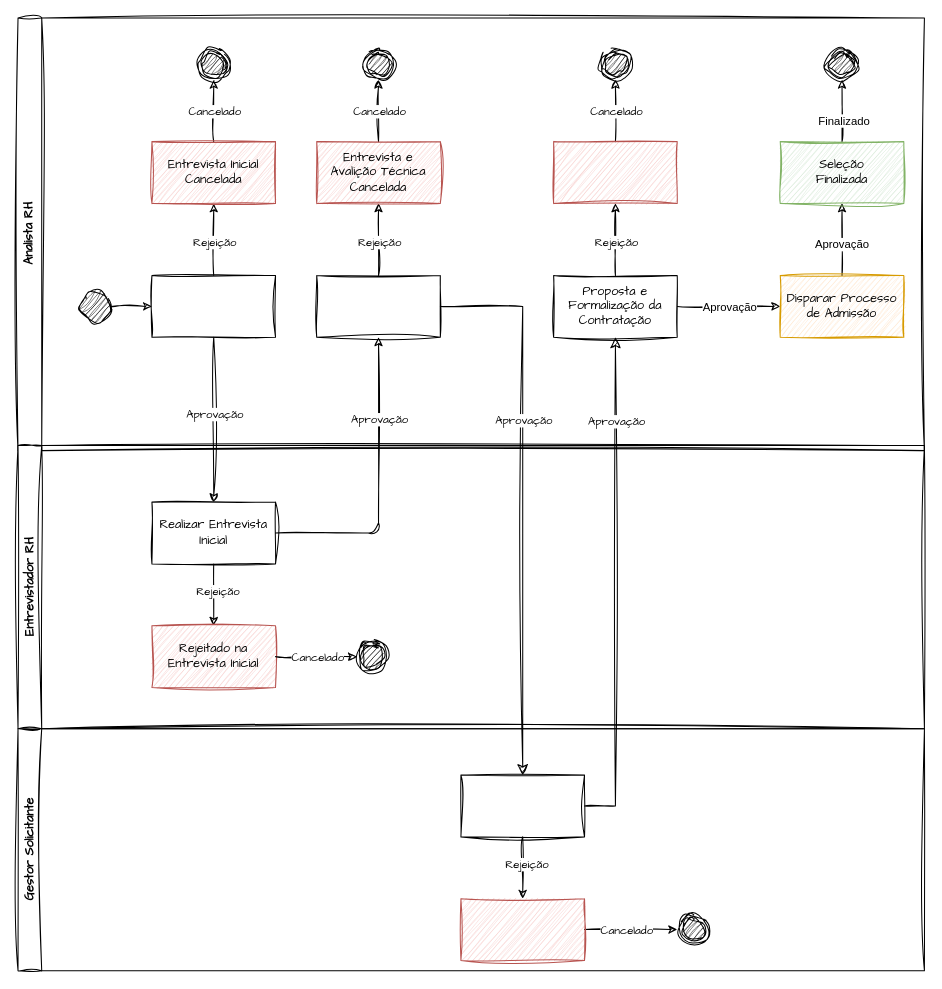
Image size: 942x989. Some labels were removed from this diagram. The shapes that lost their labels are listed below. From the top down, each one's centre as x and y in pixels, then its label:
At point (615, 172): "Proposta Rejeitada".
At point (213, 305): "Agendar Entrevista Inicial".
At point (378, 305): "Agendar Entrevista e Avalição Técnica".
At point (522, 805): "Realizar Entrevista e Avaliação Técnica".
At point (522, 929): "Rejeitado na Entrevista e Avaliação Técnica".
